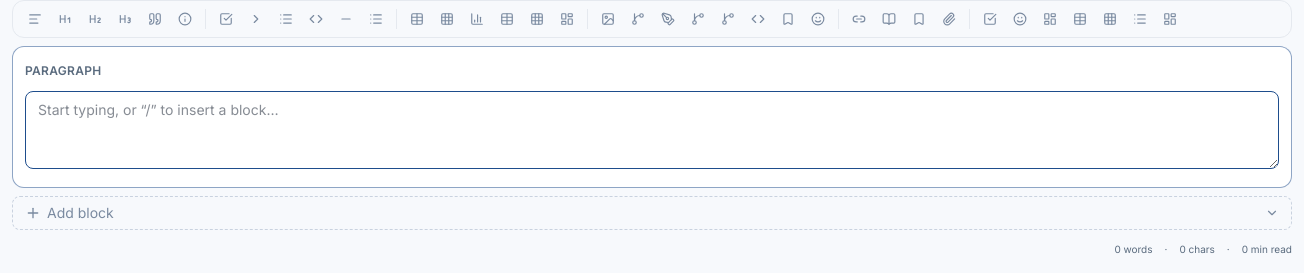
Scenario: BlockEditor — Know Studio blocks › shows char count and readability grade in status bar (KR-013)
Type "The cat sat on the mat." into the text box named "Paragraph content" at {"x": 652, "y": 130}, box x1=25 y1=91 x2=1279 y2=169
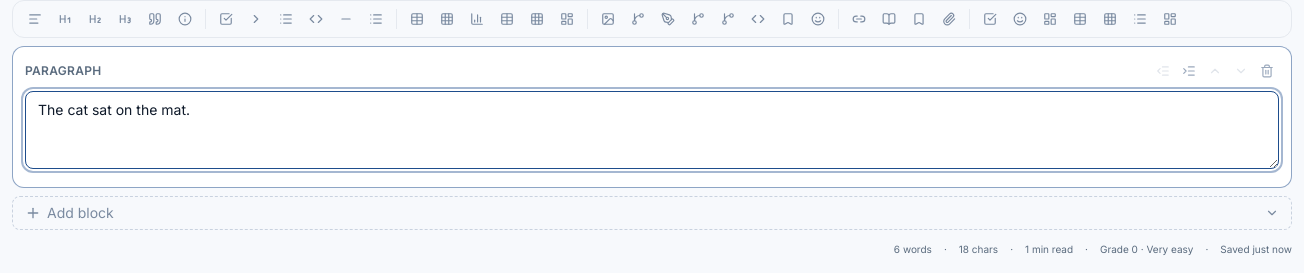
Expected: the text "18 chars" is shown, x1=959 y1=242 x2=998 y2=256
Now the text "Grade 0 · Very easy" is shown, box x1=1100 y1=242 x2=1193 y2=256
